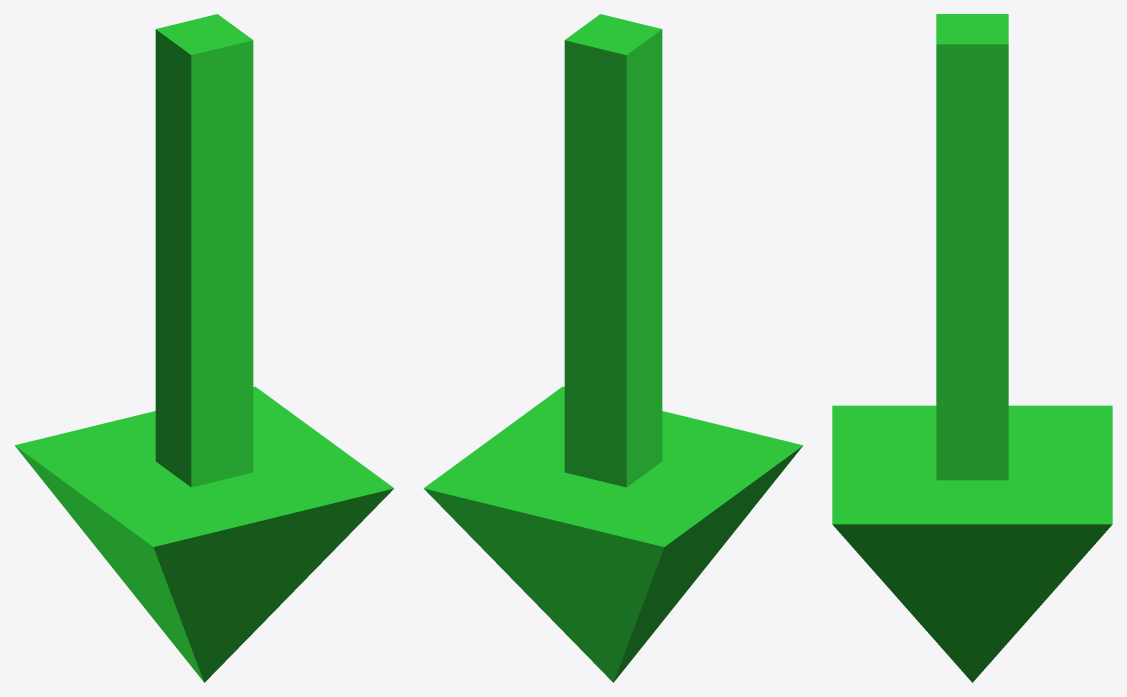
Rendered from green_arrow_down.glb.
The picture shows the model from 3 angles, left to right: view 1: azimuth 30°, elevation 25°; view 2: azimuth 150°, elevation 25°; view 3: azimuth 270°, elevation 25°; orthographic projection.
Parts seen in each view (by area): view 1: GreenArrowDown; view 2: GreenArrowDown; view 3: GreenArrowDown.
Boxes of the visible parts, x1,y1,x2,y2 form: GreenArrowDown: (15,14,394,682); GreenArrowDown: (423,14,802,682); GreenArrowDown: (832,14,1112,682).
Size of the model in its own units: 0.7 by 1.8 by 0.7.
